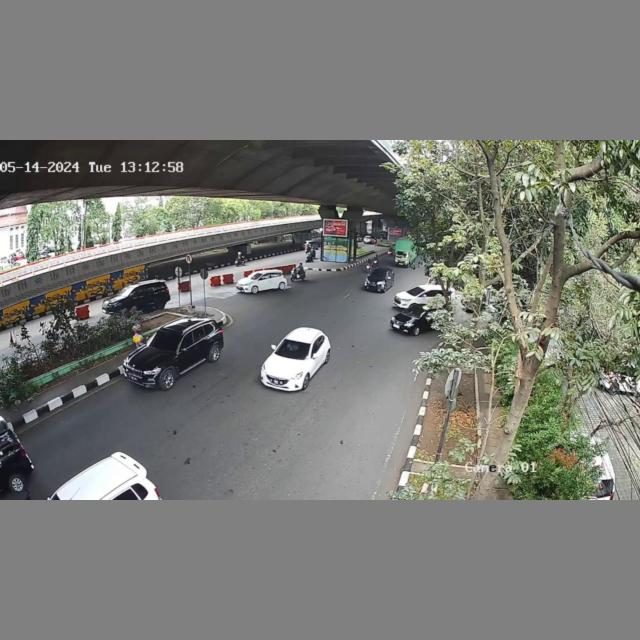windshield: (147, 328, 185, 352), (273, 339, 310, 360)
